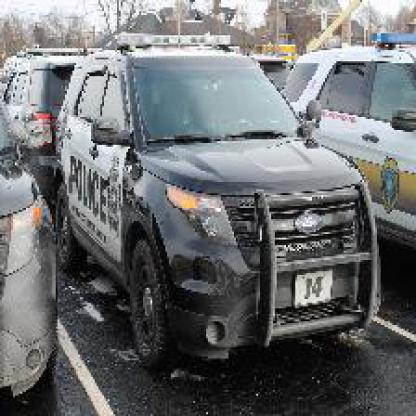emergency: (56, 39, 397, 358)
